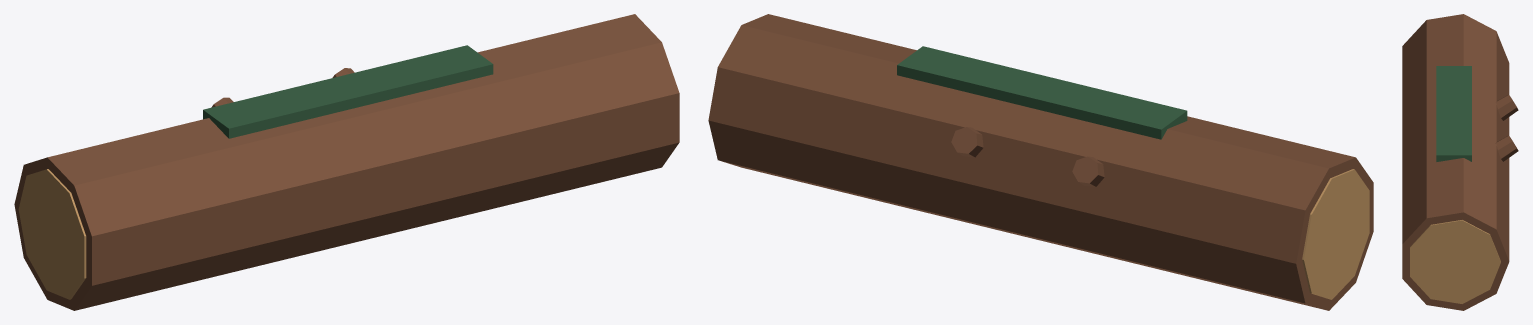
Rendered from fallen_log_large.glb.
The picture shows the model from 3 angles, left to right: view 1: azimuth 30°, elevation 25°; view 2: azimuth 150°, elevation 25°; view 3: azimuth 270°, elevation 25°; orthographic projection. The views are drawn at different scales.
Visible parts, largest first — view 1: fallen_log_large; view 2: fallen_log_large; view 3: fallen_log_large.
Boxes of the visible parts, box(x1,y1,x2,y2) form: fallen_log_large: box(14, 14, 679, 310); fallen_log_large: box(708, 14, 1373, 310); fallen_log_large: box(1402, 14, 1518, 310).
Size of the model in its own units: 3.42 by 0.8089 by 0.843.
